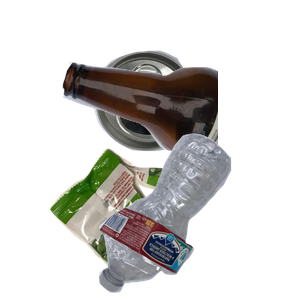glass: (60, 59, 300, 217)
metal: (89, 48, 276, 192)
plastic: (96, 131, 300, 300)
trash: (47, 146, 220, 300)
